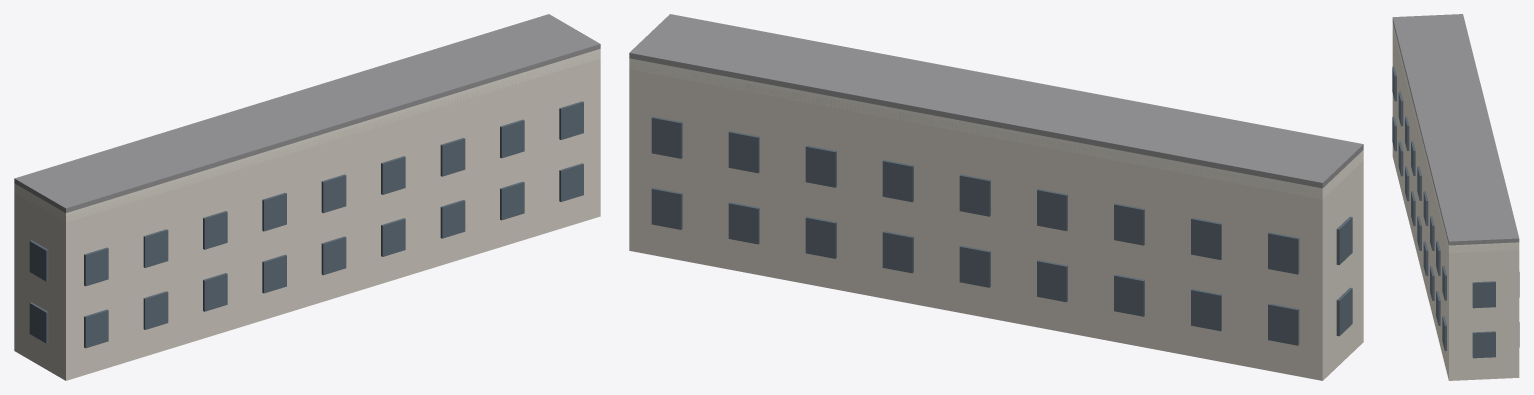
Rendered from s19_gis_247924_820723.glb.
The picture shows the model from 3 angles, left to right: view 1: azimuth 30°, elevation 25°; view 2: azimuth 150°, elevation 25°; view 3: azimuth 270°, elevation 25°; orthographic projection. The views are drawn at different scales.
Parts seen in each view (by area): view 1: mass, roofcap, cornice, win_2_0_1, win_2_1_1, win_2_0_4, win_2_0_6, win_2_1_4, win_2_1_6, win_2_0_0, win_2_0_3, win_2_0_5 (+11 smaller); view 2: mass, roofcap, cornice, win_0_0_1, win_0_0_8, win_0_0_3, win_0_1_1, win_0_1_3, win_0_1_4, win_0_1_8, win_0_0_0, win_0_0_4 (+11 smaller); view 3: roofcap, mass, cornice, win_3_0_0, win_3_1_0, win_2_0_1, win_2_1_1, win_2_0_5, win_2_1_5, win_2_0_0, win_2_1_0, win_2_0_2 (+11 smaller).
Boxes of the visible parts, bbox=[...] form: mass: bbox=[14, 52, 600, 380]; roofcap: bbox=[14, 14, 600, 212]; cornice: bbox=[14, 49, 600, 222]; win_2_0_1: bbox=[143, 291, 168, 329]; win_2_1_1: bbox=[143, 229, 168, 267]; win_2_0_4: bbox=[321, 236, 346, 275]; win_2_0_6: bbox=[440, 200, 465, 238]; win_2_1_4: bbox=[321, 174, 346, 213]; win_2_1_6: bbox=[440, 138, 465, 176]; win_2_0_0: bbox=[84, 309, 108, 348]; win_2_0_3: bbox=[262, 254, 286, 293]; win_2_0_5: bbox=[381, 218, 405, 256]; mass: bbox=[629, 61, 1363, 380]; roofcap: bbox=[629, 14, 1363, 188]; cornice: bbox=[629, 58, 1363, 199]; win_0_0_1: bbox=[728, 202, 759, 244]; win_0_0_8: bbox=[1268, 303, 1299, 345]; win_0_0_3: bbox=[882, 231, 913, 273]; win_0_1_1: bbox=[728, 131, 759, 173]; win_0_1_3: bbox=[882, 160, 913, 202]; win_0_1_4: bbox=[959, 174, 990, 216]; win_0_1_8: bbox=[1268, 232, 1299, 274]; win_0_0_0: bbox=[651, 187, 682, 229]; win_0_0_4: bbox=[959, 245, 990, 287]; roofcap: bbox=[1392, 14, 1519, 245]; mass: bbox=[1392, 30, 1519, 380]; cornice: bbox=[1392, 22, 1519, 253]; win_3_0_0: bbox=[1472, 331, 1495, 358]; win_3_1_0: bbox=[1472, 281, 1495, 308]; win_2_0_1: bbox=[1398, 141, 1403, 176]; win_2_1_1: bbox=[1398, 91, 1403, 126]; win_2_0_5: bbox=[1423, 241, 1428, 275]; win_2_1_5: bbox=[1423, 191, 1428, 225]; win_2_0_0: bbox=[1392, 116, 1396, 151]; win_2_1_0: bbox=[1392, 66, 1396, 101]; win_2_0_2: bbox=[1405, 166, 1409, 201].
Size of the model in its own units: 29.25 by 8.35 by 6.92.
